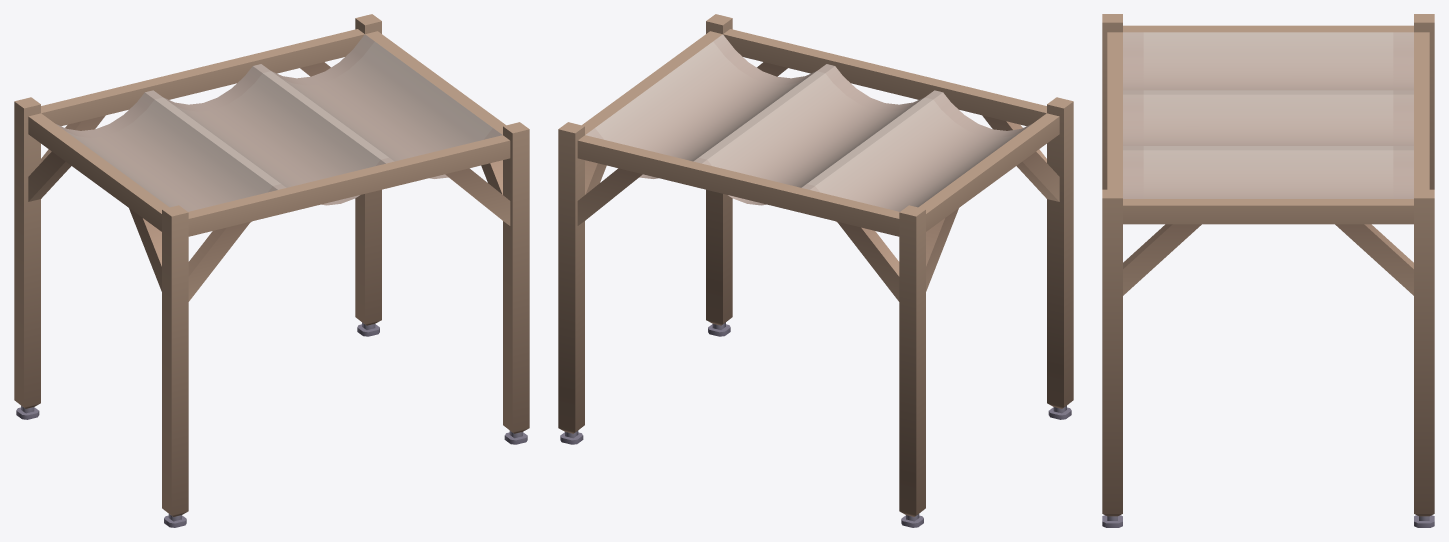
File: pergola-canvas.glb
The picture shows the model from 3 angles, left to right: view 1: azimuth 30°, elevation 25°; view 2: azimuth 150°, elevation 25°; view 3: azimuth 270°, elevation 25°; orthographic projection. The views are drawn at different scales.
Visible parts, largest first — view 1: pergola-canvas; view 2: pergola-canvas; view 3: pergola-canvas.
Boxes of the visible parts, bbox=[...] form: pergola-canvas: bbox=[14, 14, 529, 527]; pergola-canvas: bbox=[558, 14, 1073, 527]; pergola-canvas: bbox=[1102, 14, 1434, 527].
Size of the model in its own units: 2.1 by 1.75 by 1.6.
